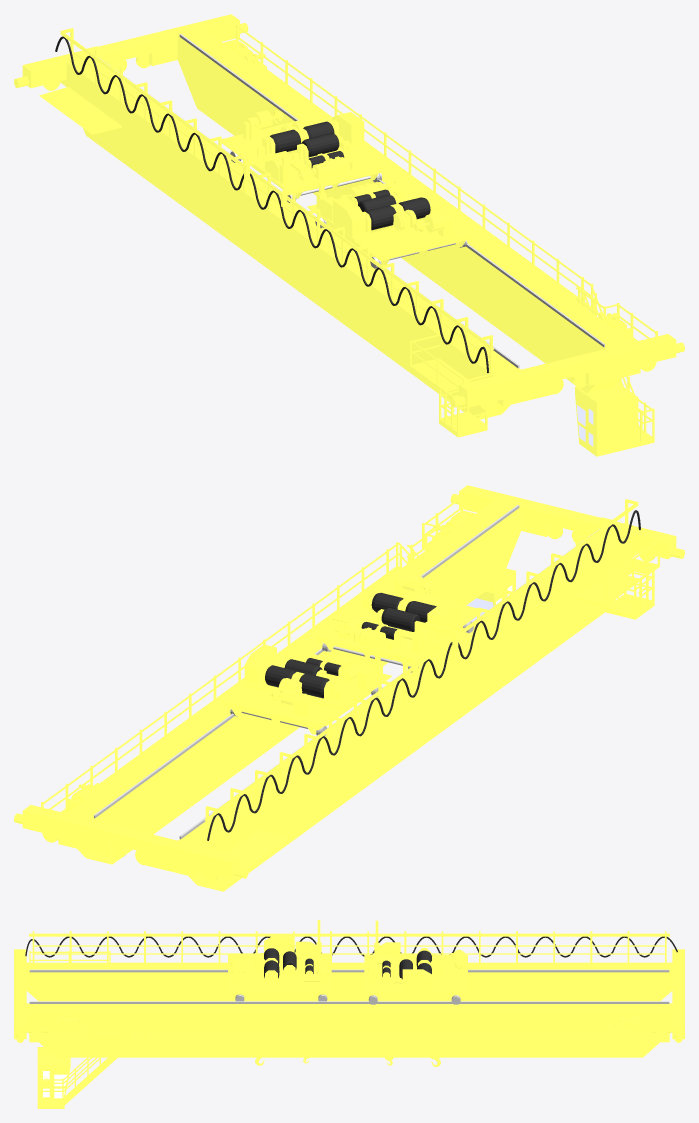
3 views of the same model, one above another, from view 1: azimuth 30°, elevation 25°; view 2: azimuth 150°, elevation 25°; view 3: azimuth 270°, elevation 25° (orthographic). The views are drawn at different scales.
Parts seen in each view (by area): view 1: 3_Bay_C_800_Body, 3_Bay_C_800_Head_01, 3_Bay_C_800_Head_02; view 2: 3_Bay_C_800_Body, 3_Bay_C_800_Head_01, 3_Bay_C_800_Head_02; view 3: 3_Bay_C_800_Body, 3_Bay_C_800_Head_02, 3_Bay_C_800_Head_01.
Part boxes in pixels (left/top/right/bottom): 3_Bay_C_800_Body: left=14, top=14, right=684, bottom=456; 3_Bay_C_800_Head_01: left=221, top=110, right=390, bottom=202; 3_Bay_C_800_Head_02: left=281, top=179, right=478, bottom=268; 3_Bay_C_800_Body: left=14, top=485, right=684, bottom=891; 3_Bay_C_800_Head_01: left=220, top=644, right=418, bottom=736; 3_Bay_C_800_Head_02: left=312, top=574, right=482, bottom=672; 3_Bay_C_800_Body: left=14, top=931, right=684, bottom=1108; 3_Bay_C_800_Head_02: left=228, top=920, right=331, bottom=1065; 3_Bay_C_800_Head_01: left=364, top=920, right=467, bottom=1066.
Size of the model in its own units: 11.1 by 7.45 by 37.25.
